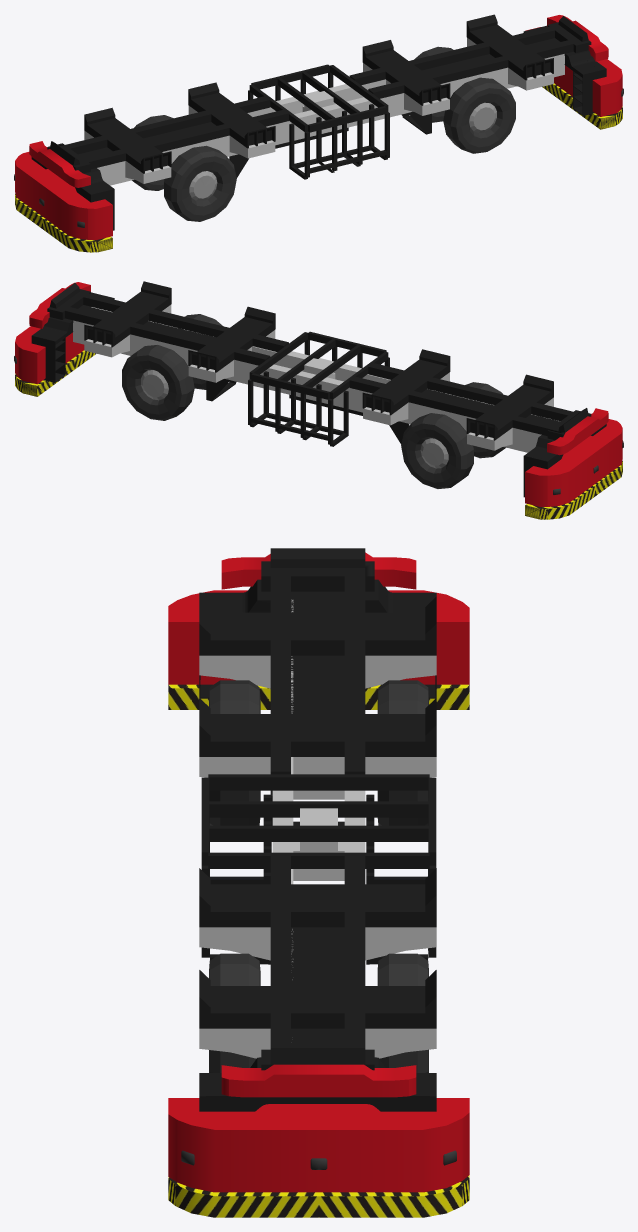
The model's file is sm_tubanche.fbx.
3 renders of one model, top to bottom at view 1: azimuth 30°, elevation 25°; view 2: azimuth 150°, elevation 25°; view 3: azimuth 270°, elevation 25°, orthographic. The views are drawn at different scales.
Visible parts, largest first — view 1: sm_tubanche; view 2: sm_tubanche; view 3: sm_tubanche.
Part boxes in pixels (box(x1,y1,x2,y2)): sm_tubanche: box(14, 14, 623, 252); sm_tubanche: box(14, 281, 623, 519); sm_tubanche: box(168, 548, 469, 1217).
Size of the model in its own units: 15.32 by 2.18 by 3.6.
